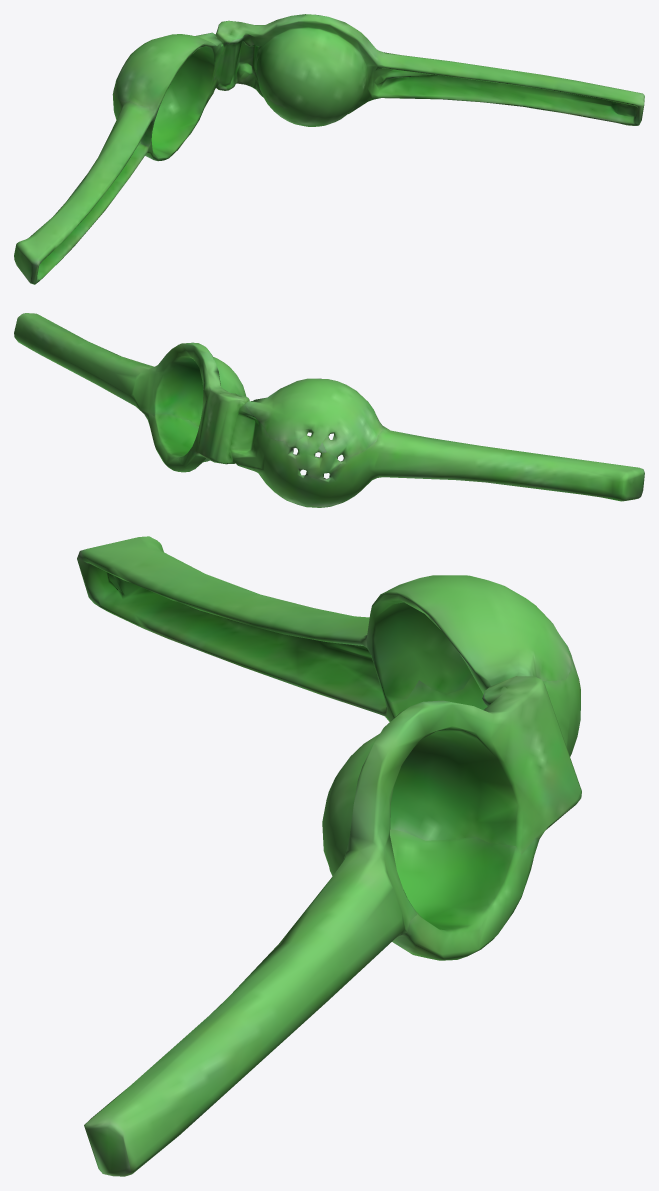
File: Focus_8643_Lime_Squeezer_10x35x188_Enamelled_Aluminum_Light-high.glb
The picture shows the model from 3 angles, top to bottom: view 1: azimuth 30°, elevation 25°; view 2: azimuth 150°, elevation 25°; view 3: azimuth 270°, elevation 25°; orthographic projection. The views are drawn at different scales.
Visible parts, largest first — view 1: Focus_8643_Lime_Squeezer_10x35x188_Enamelled_Aluminum_Light; view 2: Focus_8643_Lime_Squeezer_10x35x188_Enamelled_Aluminum_Light; view 3: Focus_8643_Lime_Squeezer_10x35x188_Enamelled_Aluminum_Light.
Part boxes in pixels (x1,y1,x2,y2): Focus_8643_Lime_Squeezer_10x35x188_Enamelled_Aluminum_Light: [14, 14, 644, 284]; Focus_8643_Lime_Squeezer_10x35x188_Enamelled_Aluminum_Light: [14, 313, 644, 507]; Focus_8643_Lime_Squeezer_10x35x188_Enamelled_Aluminum_Light: [77, 536, 581, 1176].
Bounding box in the file's own units: 0.3355 × 0.0632 × 0.1185.
1 material, 1 textured.
